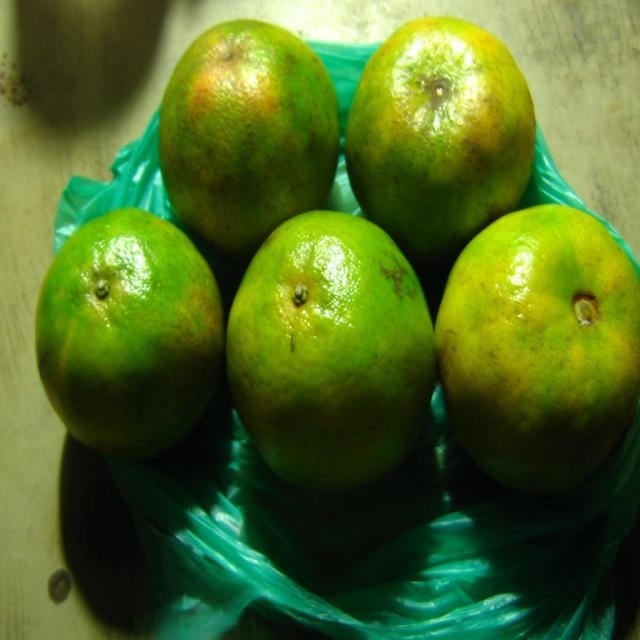Lemon: (433, 200, 640, 501), (227, 203, 436, 488), (40, 201, 223, 460), (343, 18, 532, 255), (160, 17, 339, 253)
